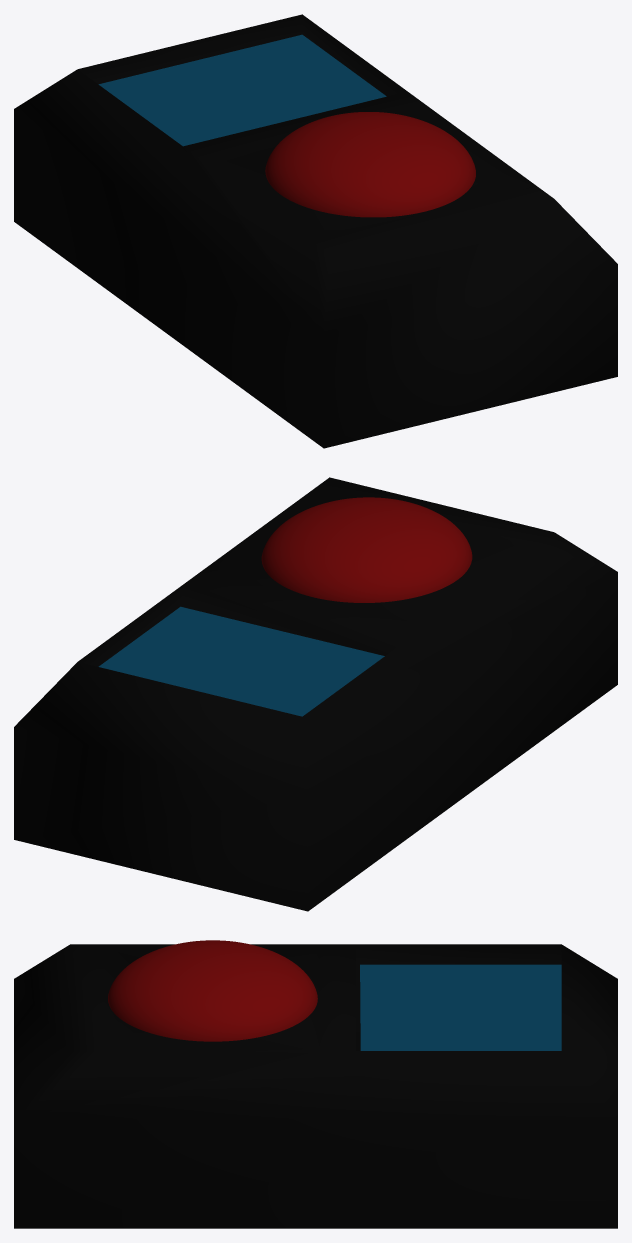
File: button_key_card_reader_scp_v1__v2.glb
The picture shows the model from 3 angles, top to bottom: view 1: azimuth 30°, elevation 25°; view 2: azimuth 150°, elevation 25°; view 3: azimuth 270°, elevation 25°; orthographic projection. The views are drawn at different scales.
Visible parts, largest first — view 1: node_id3, root_Material_102_0, root_Material_70_0; view 2: node_id3, root_Material_102_0, root_Material_70_0; view 3: node_id3, root_Material_70_0, root_Material_102_0.
Boxes of the visible parts, bbox=[...] form: node_id3: bbox=[14, 14, 617, 448]; root_Material_102_0: bbox=[265, 112, 475, 217]; root_Material_70_0: bbox=[98, 34, 386, 146]; node_id3: bbox=[14, 477, 617, 911]; root_Material_102_0: bbox=[261, 497, 472, 602]; root_Material_70_0: bbox=[98, 606, 384, 716]; node_id3: bbox=[14, 944, 617, 1228]; root_Material_70_0: bbox=[360, 964, 561, 1050]; root_Material_102_0: bbox=[108, 940, 317, 1041].
Bounding box in the file's own units: 0.512 × 0.3445 × 0.9345.
3 materials, 3 textured.
